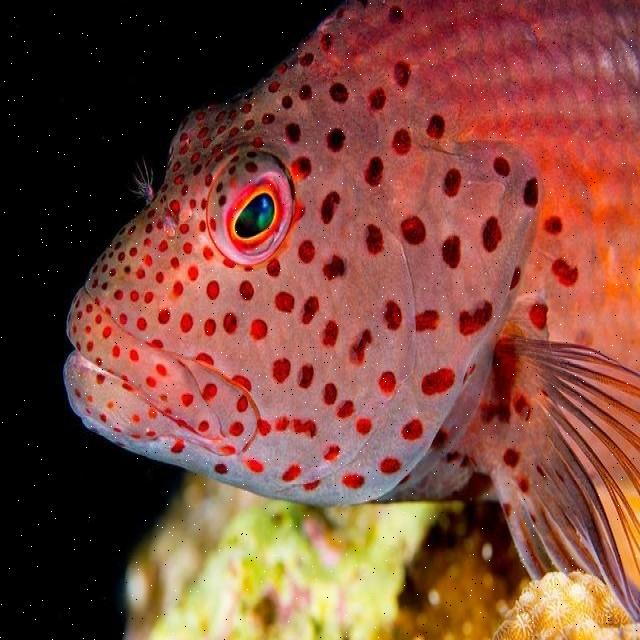fish: (63, 1, 639, 623)
reefs: (491, 571, 639, 639), (131, 159, 154, 198)
